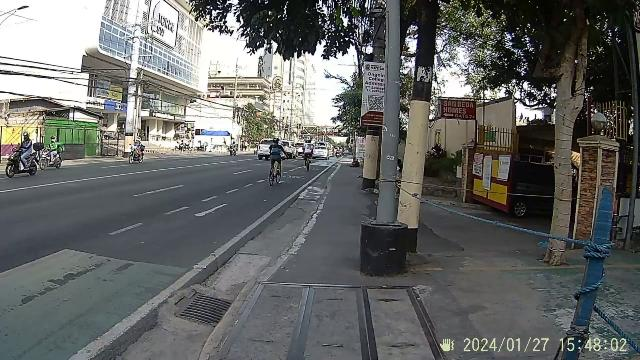lamp_post: (1, 2, 32, 192), (1, 3, 32, 99)
utility_post: (360, 0, 430, 278)
